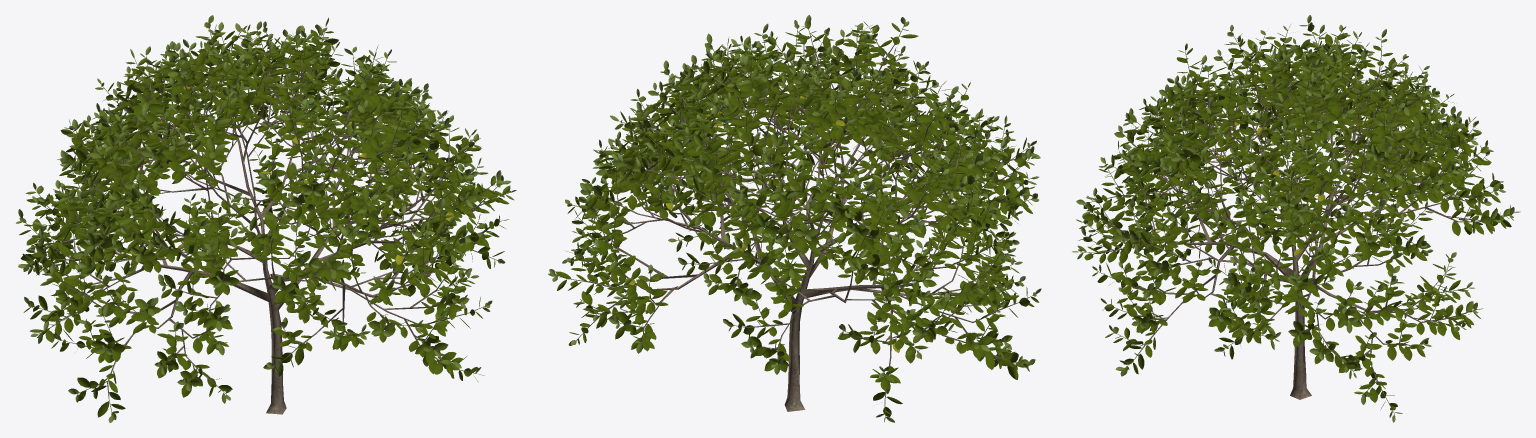
The model's file is Citrus x limon HD_Standard leaves only mat 25_LOD2.fbx.
3 renders of one model, left to right at view 1: azimuth 30°, elevation 25°; view 2: azimuth 150°, elevation 25°; view 3: azimuth 270°, elevation 25°, orthographic. The views are drawn at different scales.
Parts seen in each view (by area): view 1: Citrus_x_limon_HD; view 2: Citrus_x_limon_HD; view 3: Citrus_x_limon_HD.
Boxes of the visible parts, x1=… form: Citrus_x_limon_HD: x1=16, y1=15, x2=516, y2=422; Citrus_x_limon_HD: x1=548, y1=15, x2=1041, y2=422; Citrus_x_limon_HD: x1=1072, y1=15, x2=1520, y2=422.
Size of the model in its own units: 2.98 by 2.31 by 2.79.
Materials: 7 (7 with a texture image).
